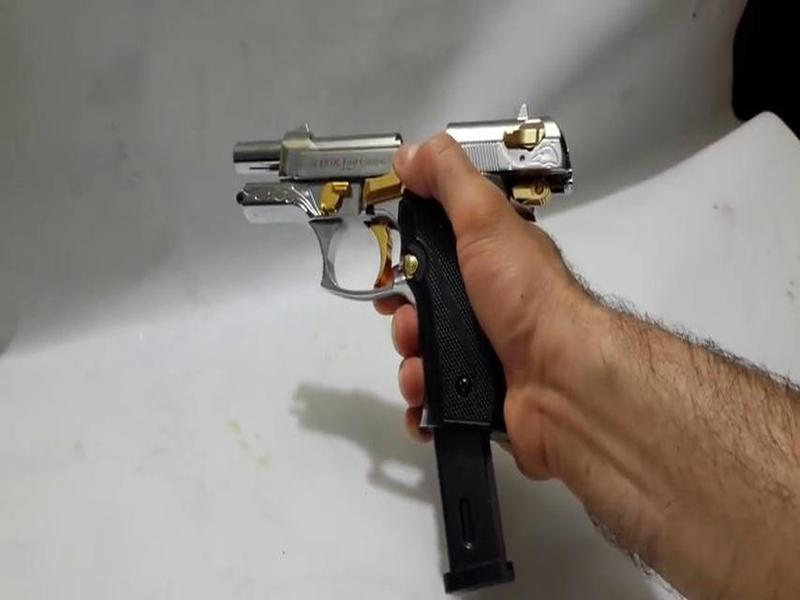Pistola: (207, 94, 598, 424)
